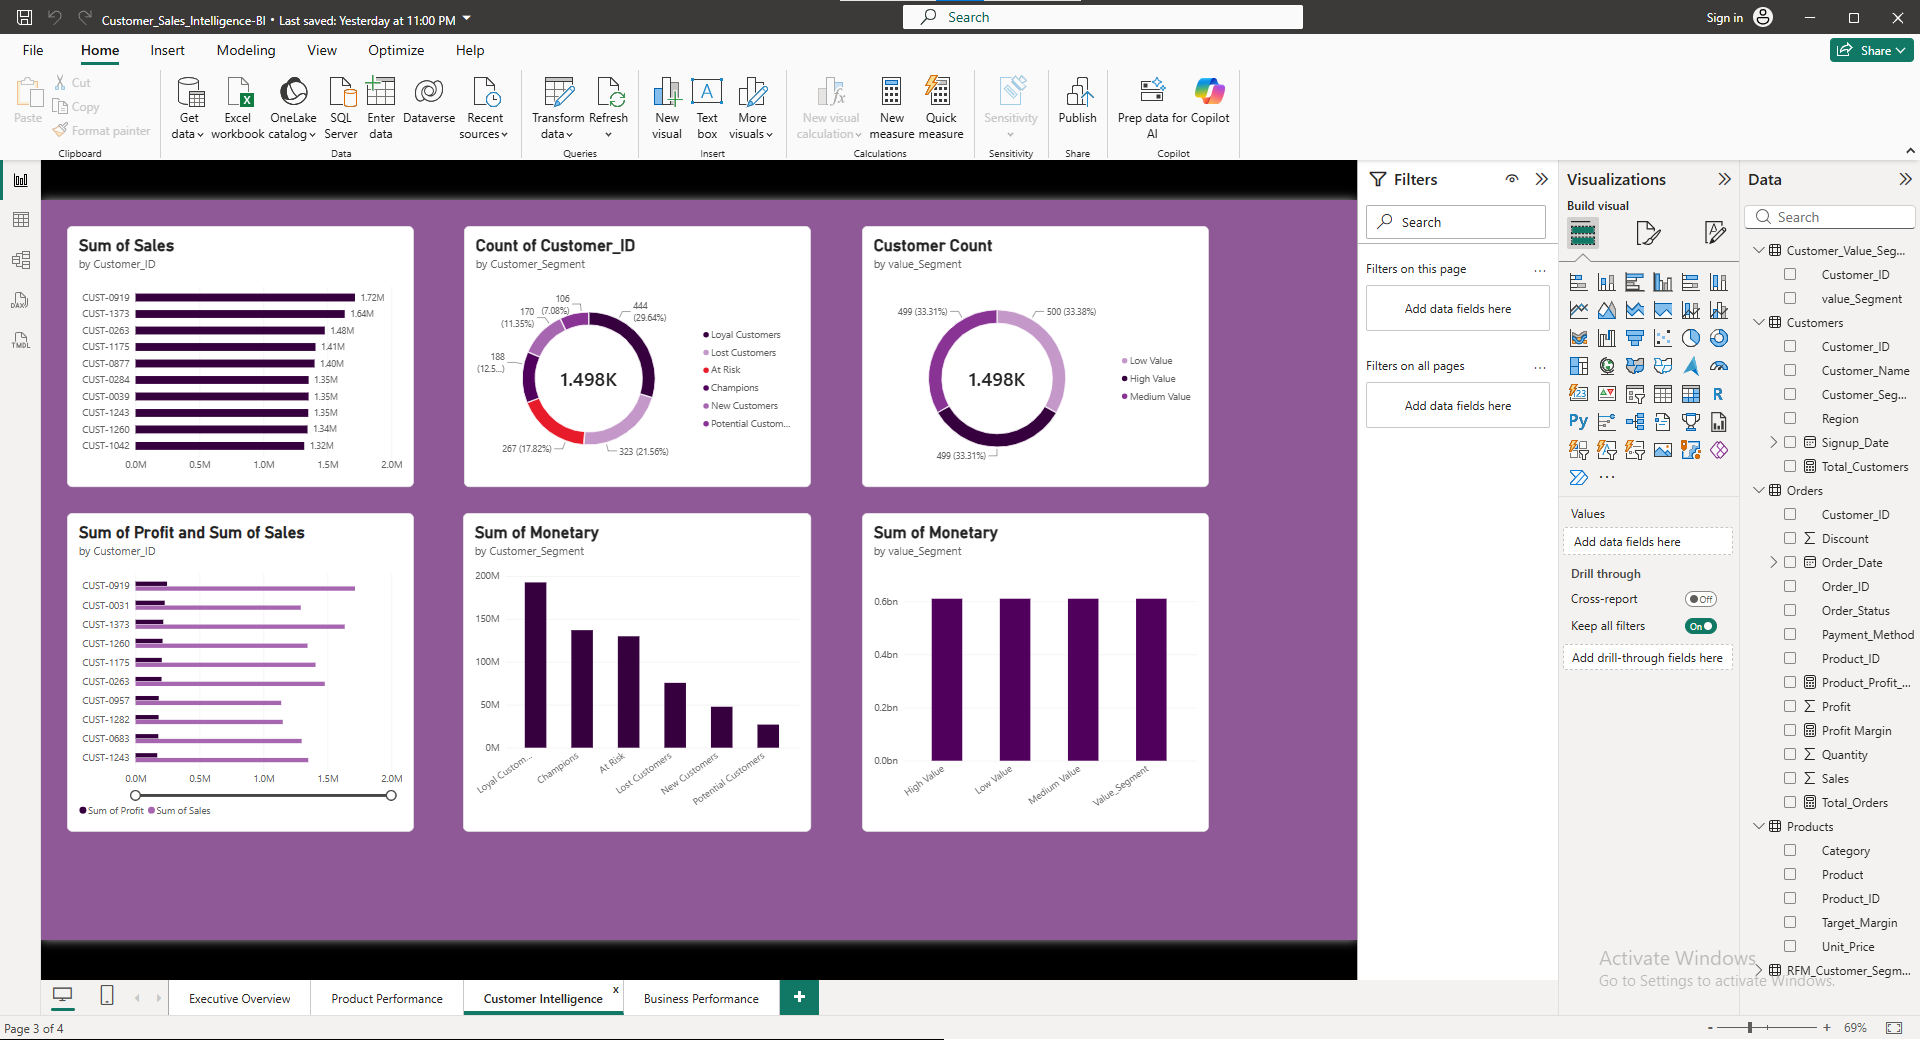

The dashboard page shown, as its layout file describes it:
{"tool":"powerbi","page":{"name":"Customer Intelligence","canvas":[1920,1080],"ordinal":2},"visuals":[{"type":"clusteredBarChart","fields":{"Category":["Orders.Customer_ID"],"Y":["Sum(Orders.Sales)"]},"box":[37.9,37.9,506.3,380.8],"z":0},{"type":"donutChart","fields":{"Category":["RFM_Customer_Segments.Customer_Segment"],"Y":["CountNonNull(RFM_Customer_Segments.Customer_ID)"]},"box":[617.1,37.9,506,381],"z":1000},{"type":"clusteredColumnChart","fields":{"Category":["RFM_Customer_Segments.Customer_Segment"],"Y":["Sum(RFM_Customer_Segments.Monetary)"]},"box":[615.7,456.7,507.7,465.4],"z":2000},{"type":"clusteredBarChart","fields":{"Category":["Customers.Customer_ID"],"Y":["Sum(Orders.Profit)","Sum(Orders.Sales)"]},"box":[37.9,456.7,506.3,465.4],"z":3000},{"type":"donutChart","fields":{"Y":["CountNonNull(Customer_Value_Segments.Column1)"],"Category":["Customer_Value_Segments.Column2"]},"box":[1197.8,37.9,506.3,380.8],"z":4000},{"type":"clusteredColumnChart","fields":{"Y":["Sum(RFM_Customer_Segments.Monetary)"],"Category":["Customer_Value_Segments.Column2"]},"box":[1197.8,456.7,506.3,465.4],"z":5000}]}

Visuals, with their boxes on the page's 1920x1080 design canvas (x1, y1, x2, y2). These are canvas units, not pixel positions in the 1920x1040 screenshot, which may show the page scaled, cropped or inside an application window:
clusteredBarChart - Orders.Customer_ID x Sum(Orders.Sales): <region>38, 38, 544, 419</region>
donutChart - RFM_Customer_Segments.Customer_Segment x CountNonNull(RFM_Customer_Segments.Customer_ID): <region>617, 38, 1123, 419</region>
clusteredColumnChart - RFM_Customer_Segments.Customer_Segment x Sum(RFM_Customer_Segments.Monetary): <region>616, 457, 1123, 922</region>
clusteredBarChart - Customers.Customer_ID x Sum(Orders.Profit): <region>38, 457, 544, 922</region>
donutChart - CountNonNull(Customer_Value_Segments.Column1) x Customer_Value_Segments.Column2: <region>1198, 38, 1704, 419</region>
clusteredColumnChart - Sum(RFM_Customer_Segments.Monetary) x Customer_Value_Segments.Column2: <region>1198, 457, 1704, 922</region>
